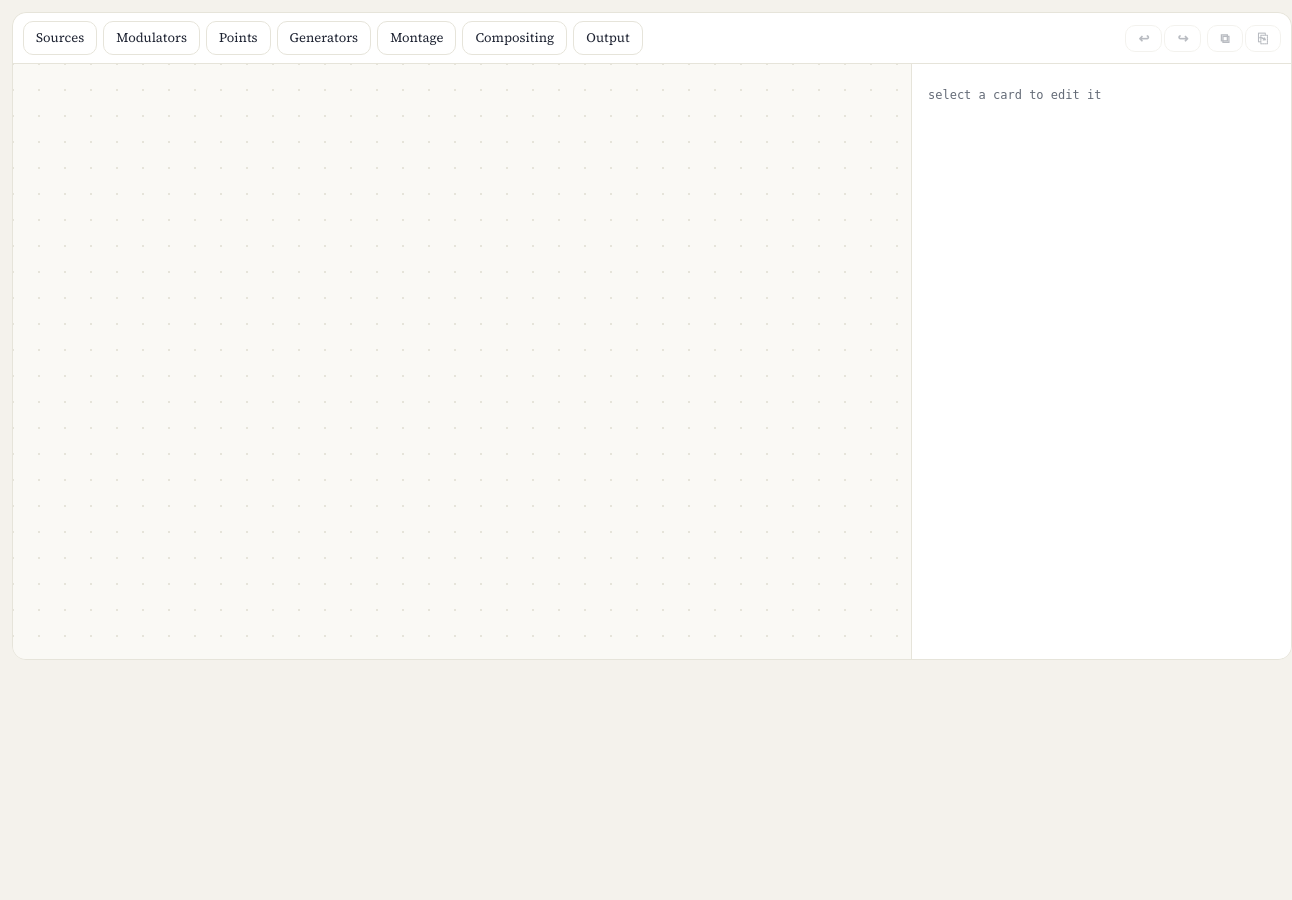
Scenario: AnimationCanvas + useGraphEditor (jsdom) › shows a button per category, each opening its node types
The image size is (1292, 900).
Expected: the button "Modulators" is shown, [103,21,200,55]
Expected: the button "Generators" is shown, [277,21,371,55]
Note: opening a category reveals its node types
Click the button "Sources" at [60, 38], box [23,21,97,55]
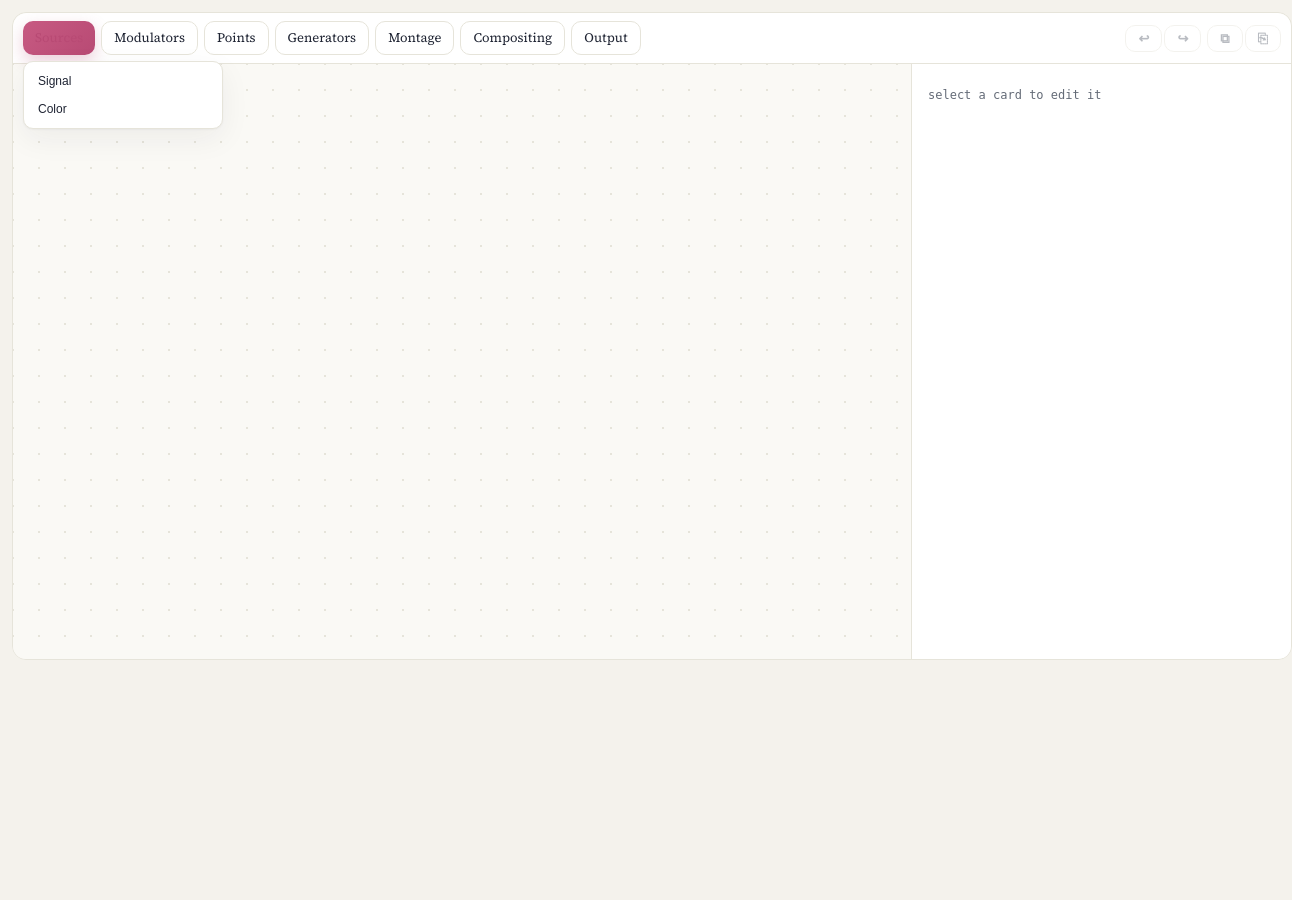
Expected: the button "Points" is shown, [204,21,269,55]
Now the menu item "Signal" is shown, box [30,68,216,94]
Click the button "Compositing" at [513, 38], box [460,21,565,55]
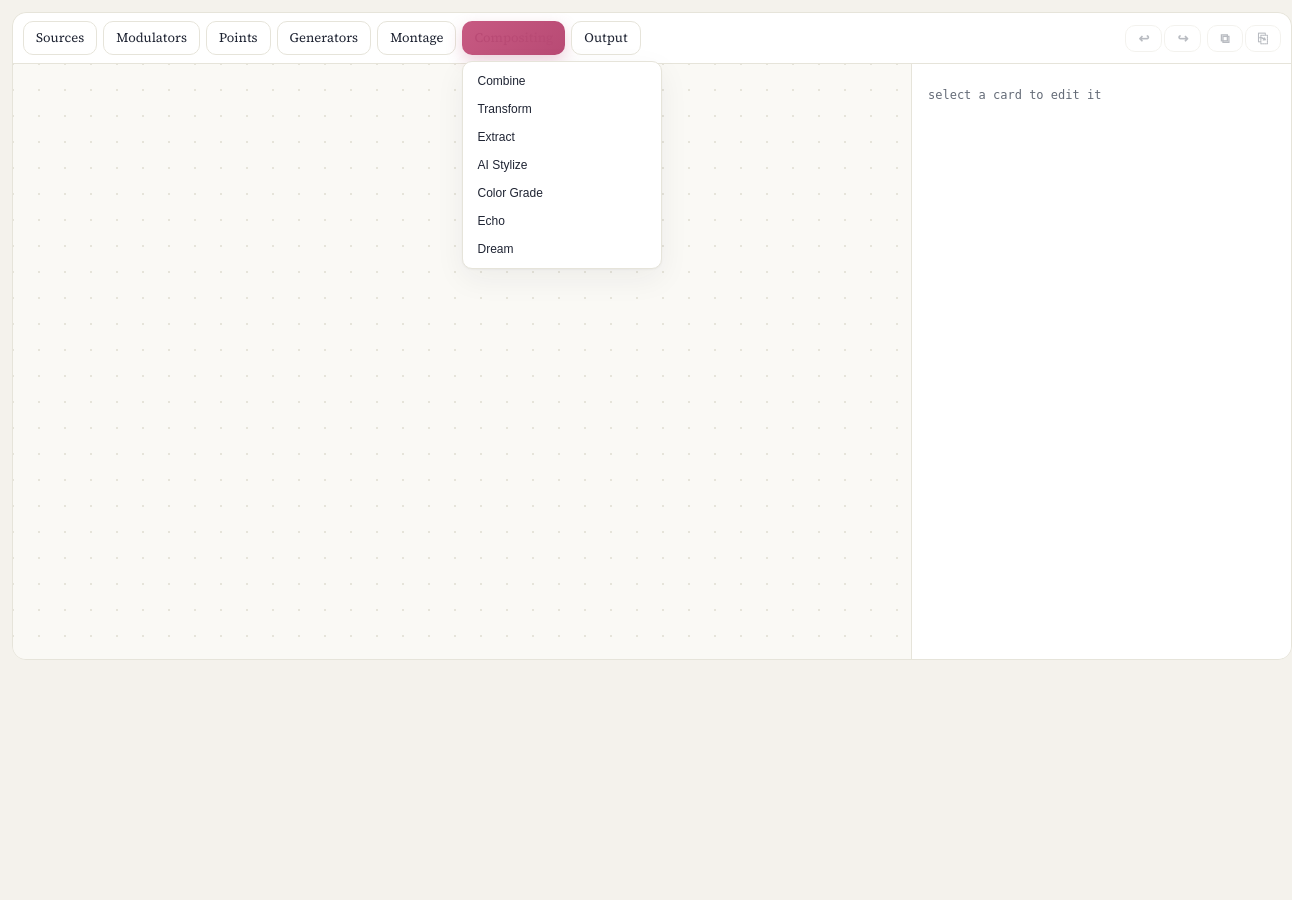
Now the menu item "Combine" is shown, box [470,68,656,94]
